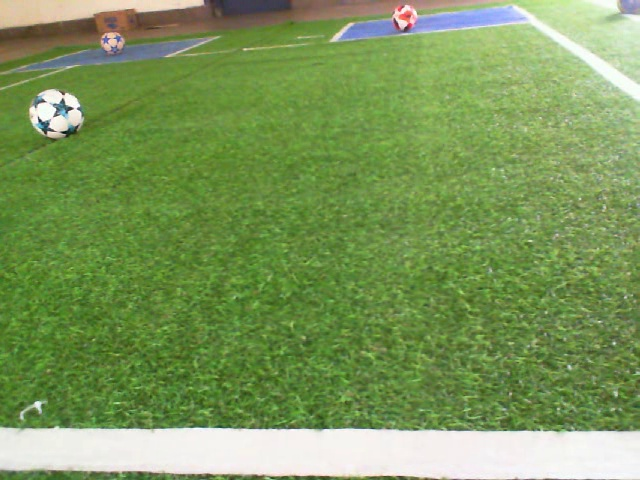ball: (27, 86, 87, 142), (391, 2, 420, 34), (98, 30, 127, 56)
